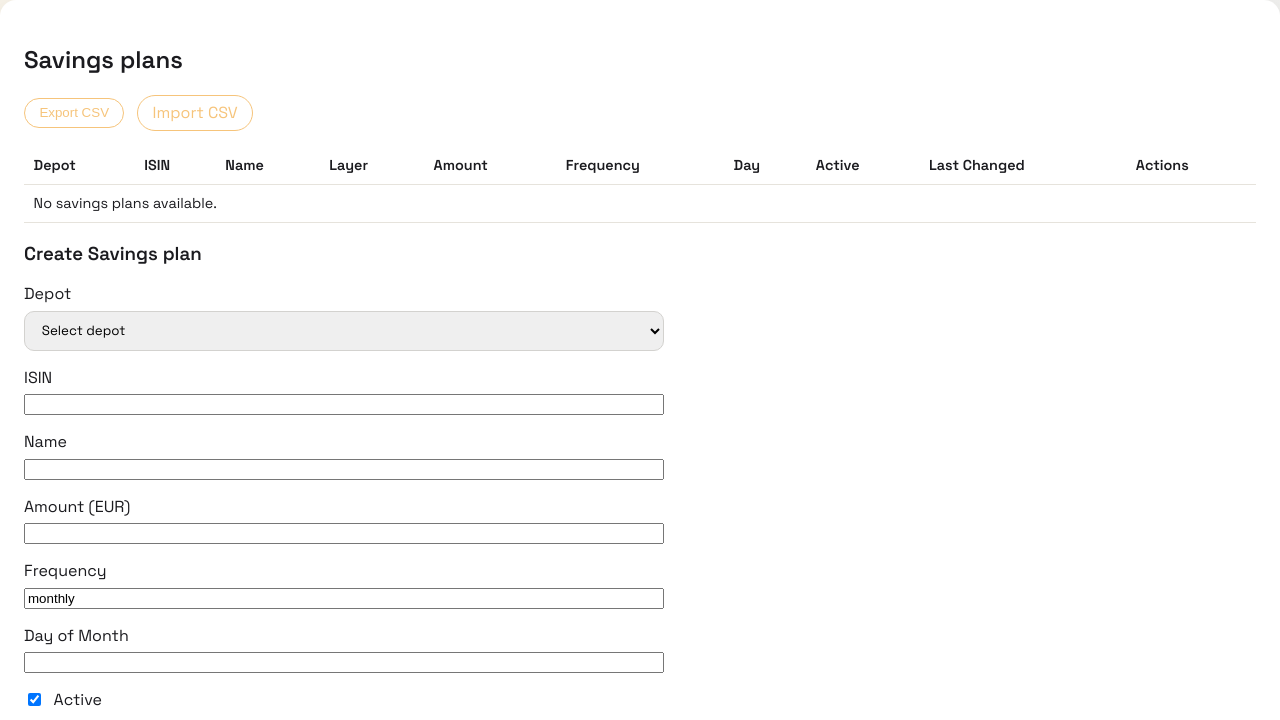
Test: SavingsPlansView › shows the effective layer after backend reactivates a deleted instrument
Select "tr - Trade Republic" in the dropdown labelled "Depot": [344, 331] box [24,311,664,351]
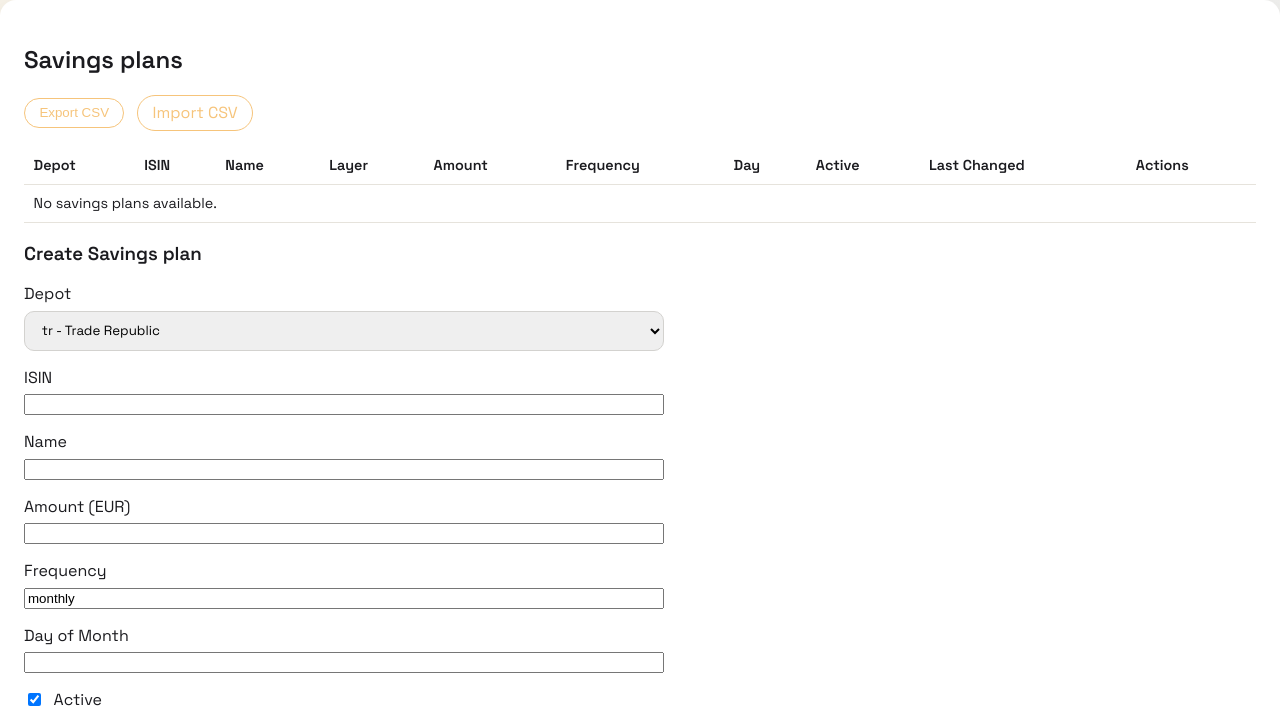
In the field labelled "ISIN": [344, 405] box [24,394,664,415], type "LU0000001002"
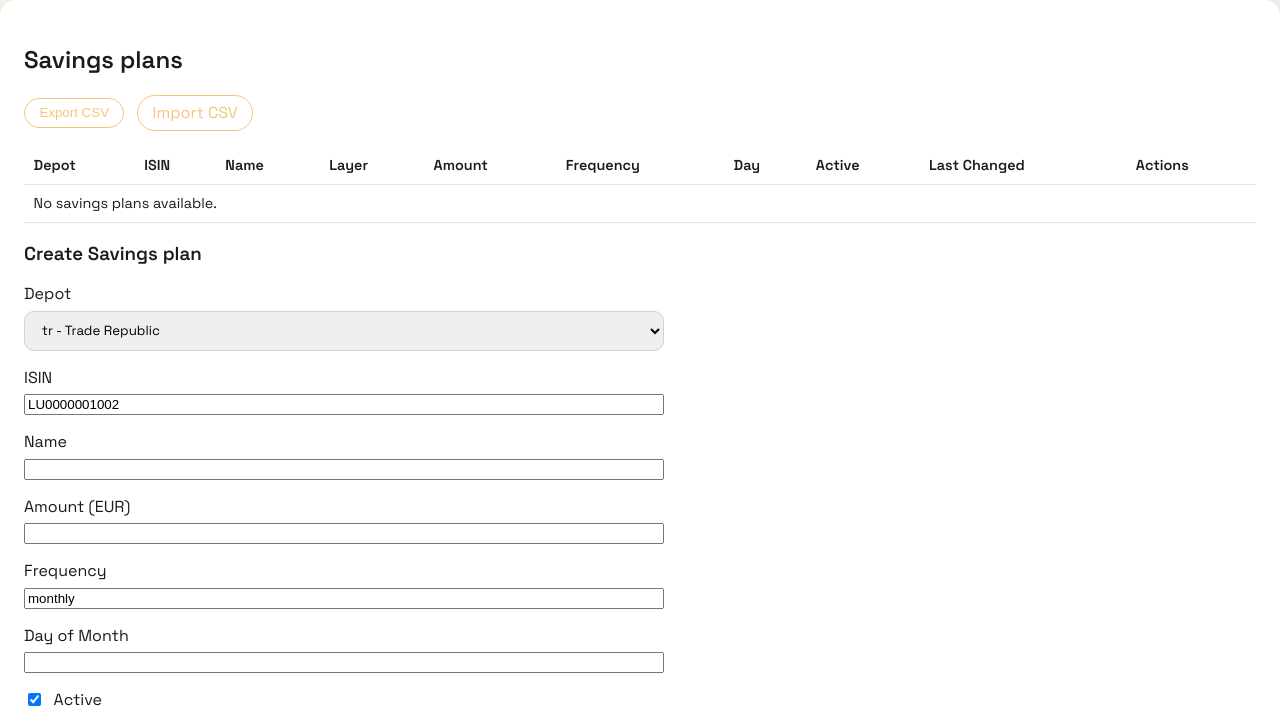
In the field labelled "Name": [344, 469] box [24,459,664,480], type "Reactivated ETF"
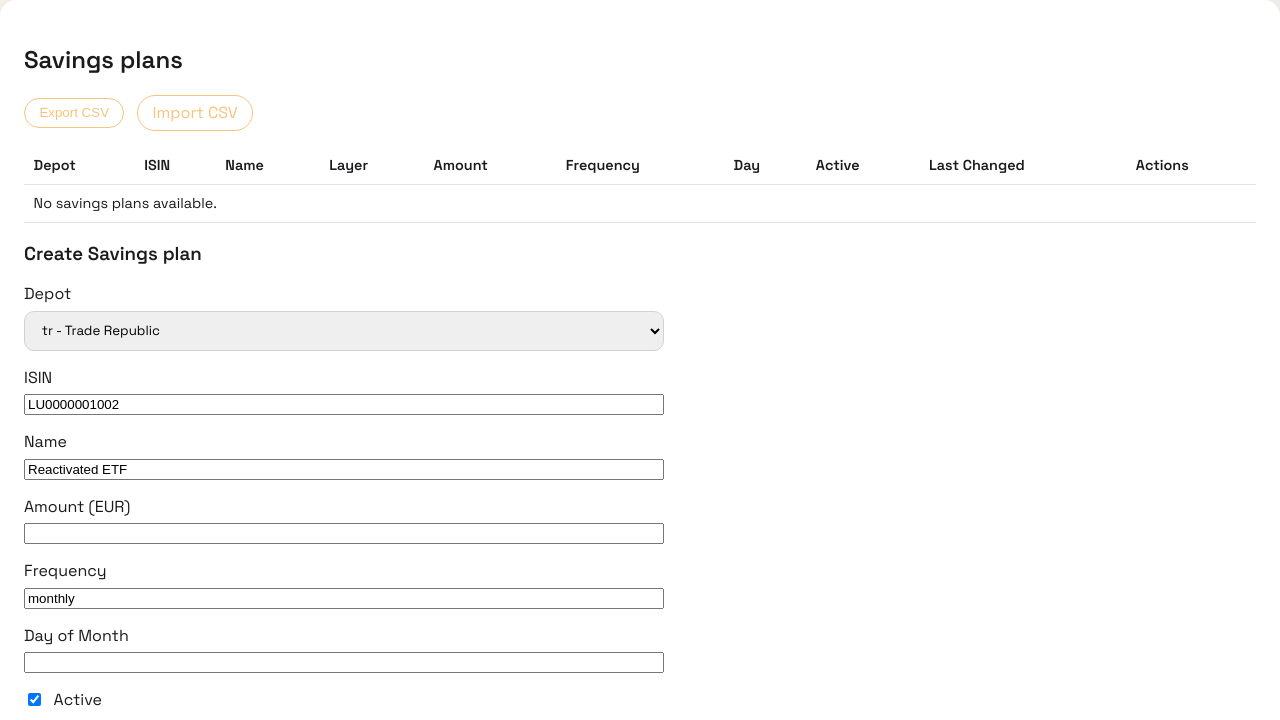
In the number field labelled "Amount (EUR)": [344, 534] box [24,523,664,544], type "35"
(page scrolled)
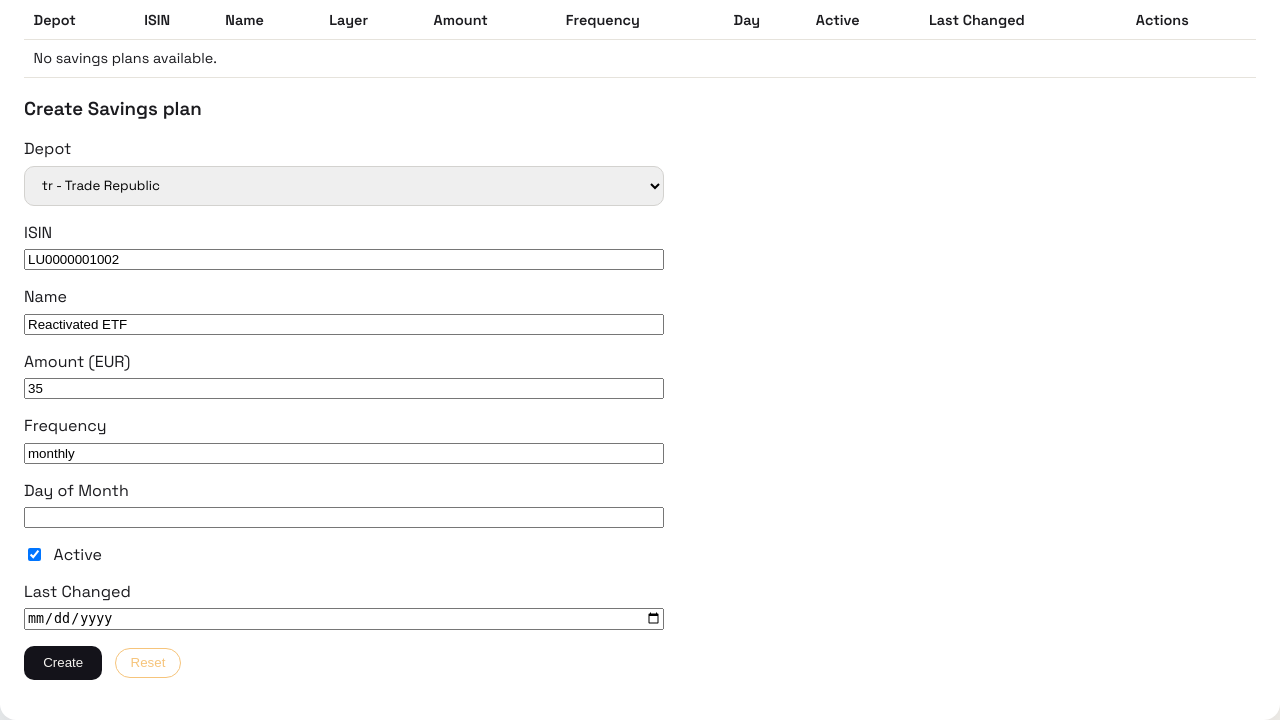
Submit the form, box [24,138,664,696]
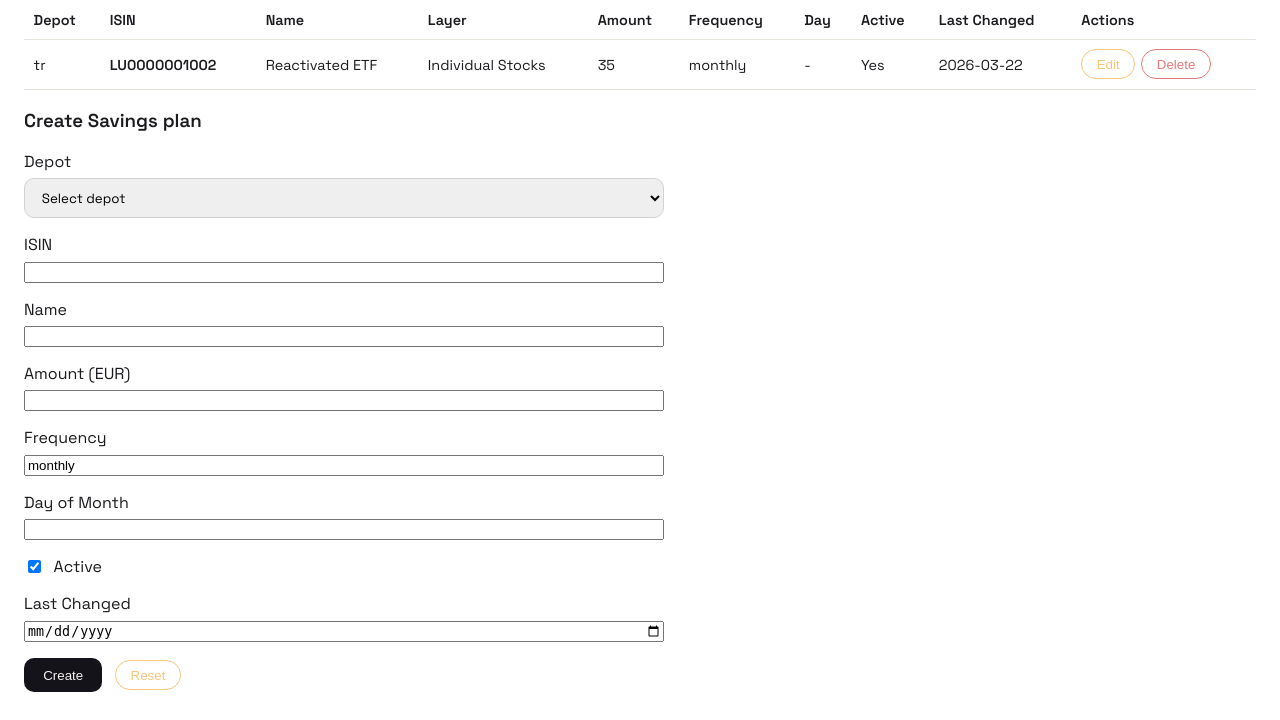
Expected: the text "Reactivated ETF" is shown, [256,40,418,90]
Expected: the text "Individual Stocks" is shown, [418,40,588,90]
